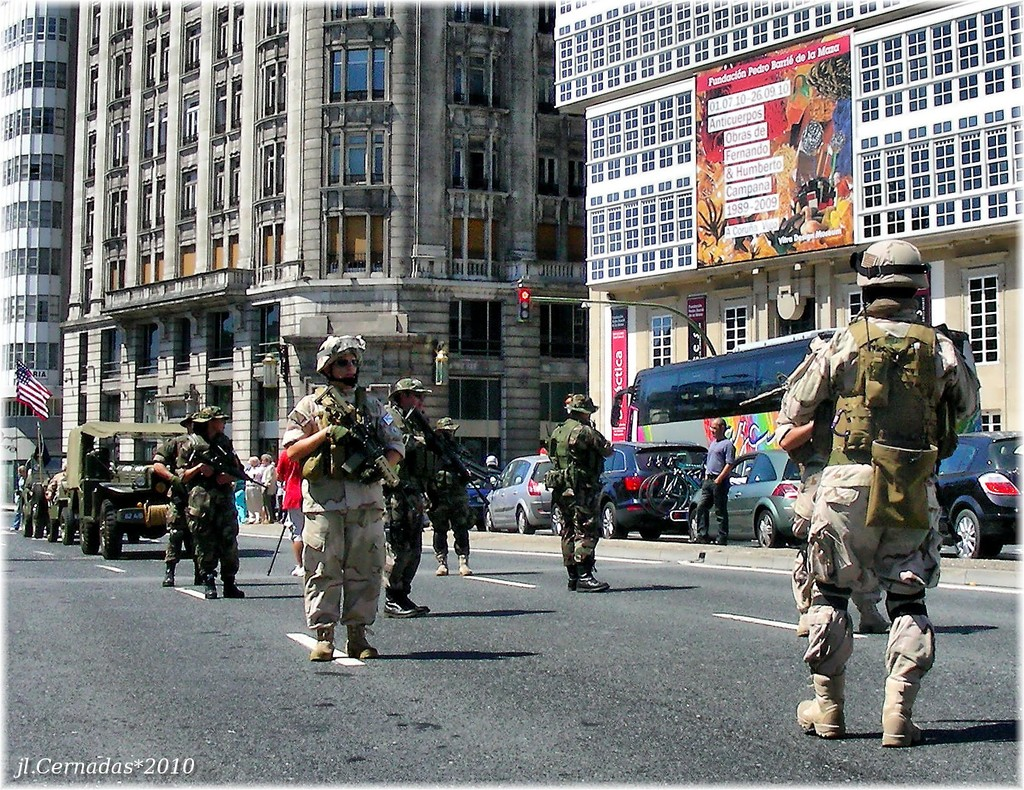Car: (684, 446, 822, 552), (550, 437, 707, 530), (936, 429, 1023, 560), (482, 456, 550, 544), (462, 478, 496, 525)
